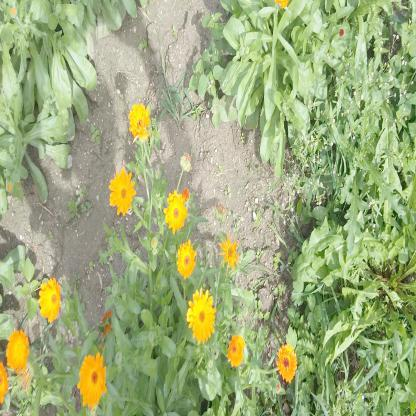marigold: (79, 355, 105, 408), (189, 290, 215, 342), (110, 169, 134, 215), (7, 330, 29, 373), (165, 191, 187, 231), (41, 280, 60, 323), (176, 243, 197, 278), (130, 104, 150, 139), (279, 345, 295, 381)
